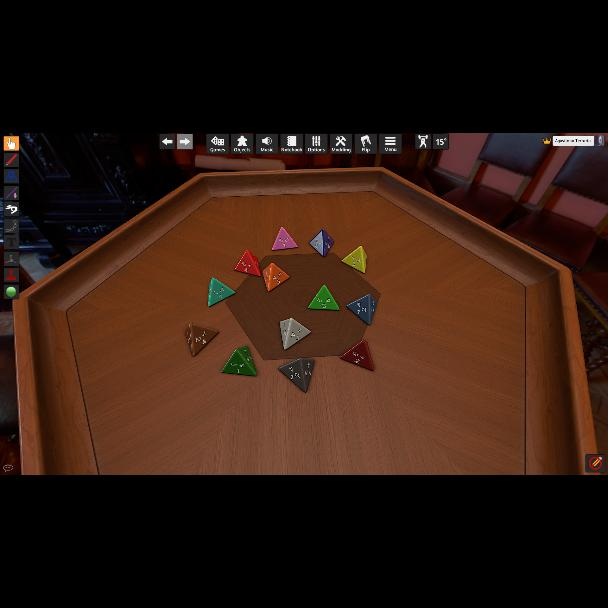d4: (278, 357, 316, 392), (340, 340, 374, 372), (222, 347, 256, 377), (278, 317, 309, 349), (346, 294, 376, 326), (186, 324, 214, 356), (208, 277, 234, 307), (309, 286, 340, 310), (308, 230, 334, 258), (262, 264, 288, 292), (235, 250, 261, 276), (342, 246, 366, 274), (272, 228, 298, 253)
